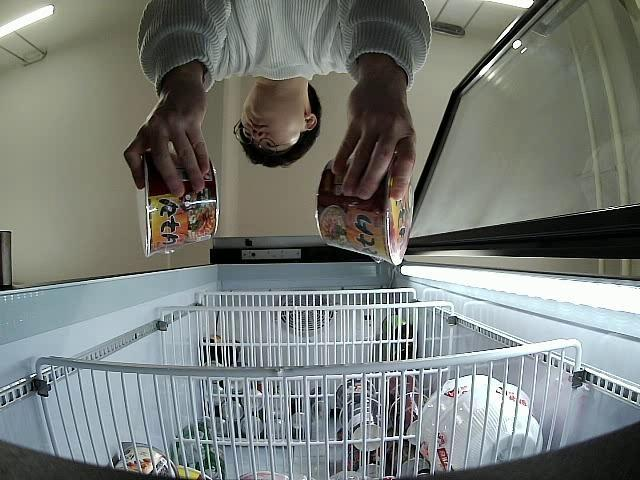05_nuguri_L: (316, 160, 412, 266), (140, 148, 220, 256)
